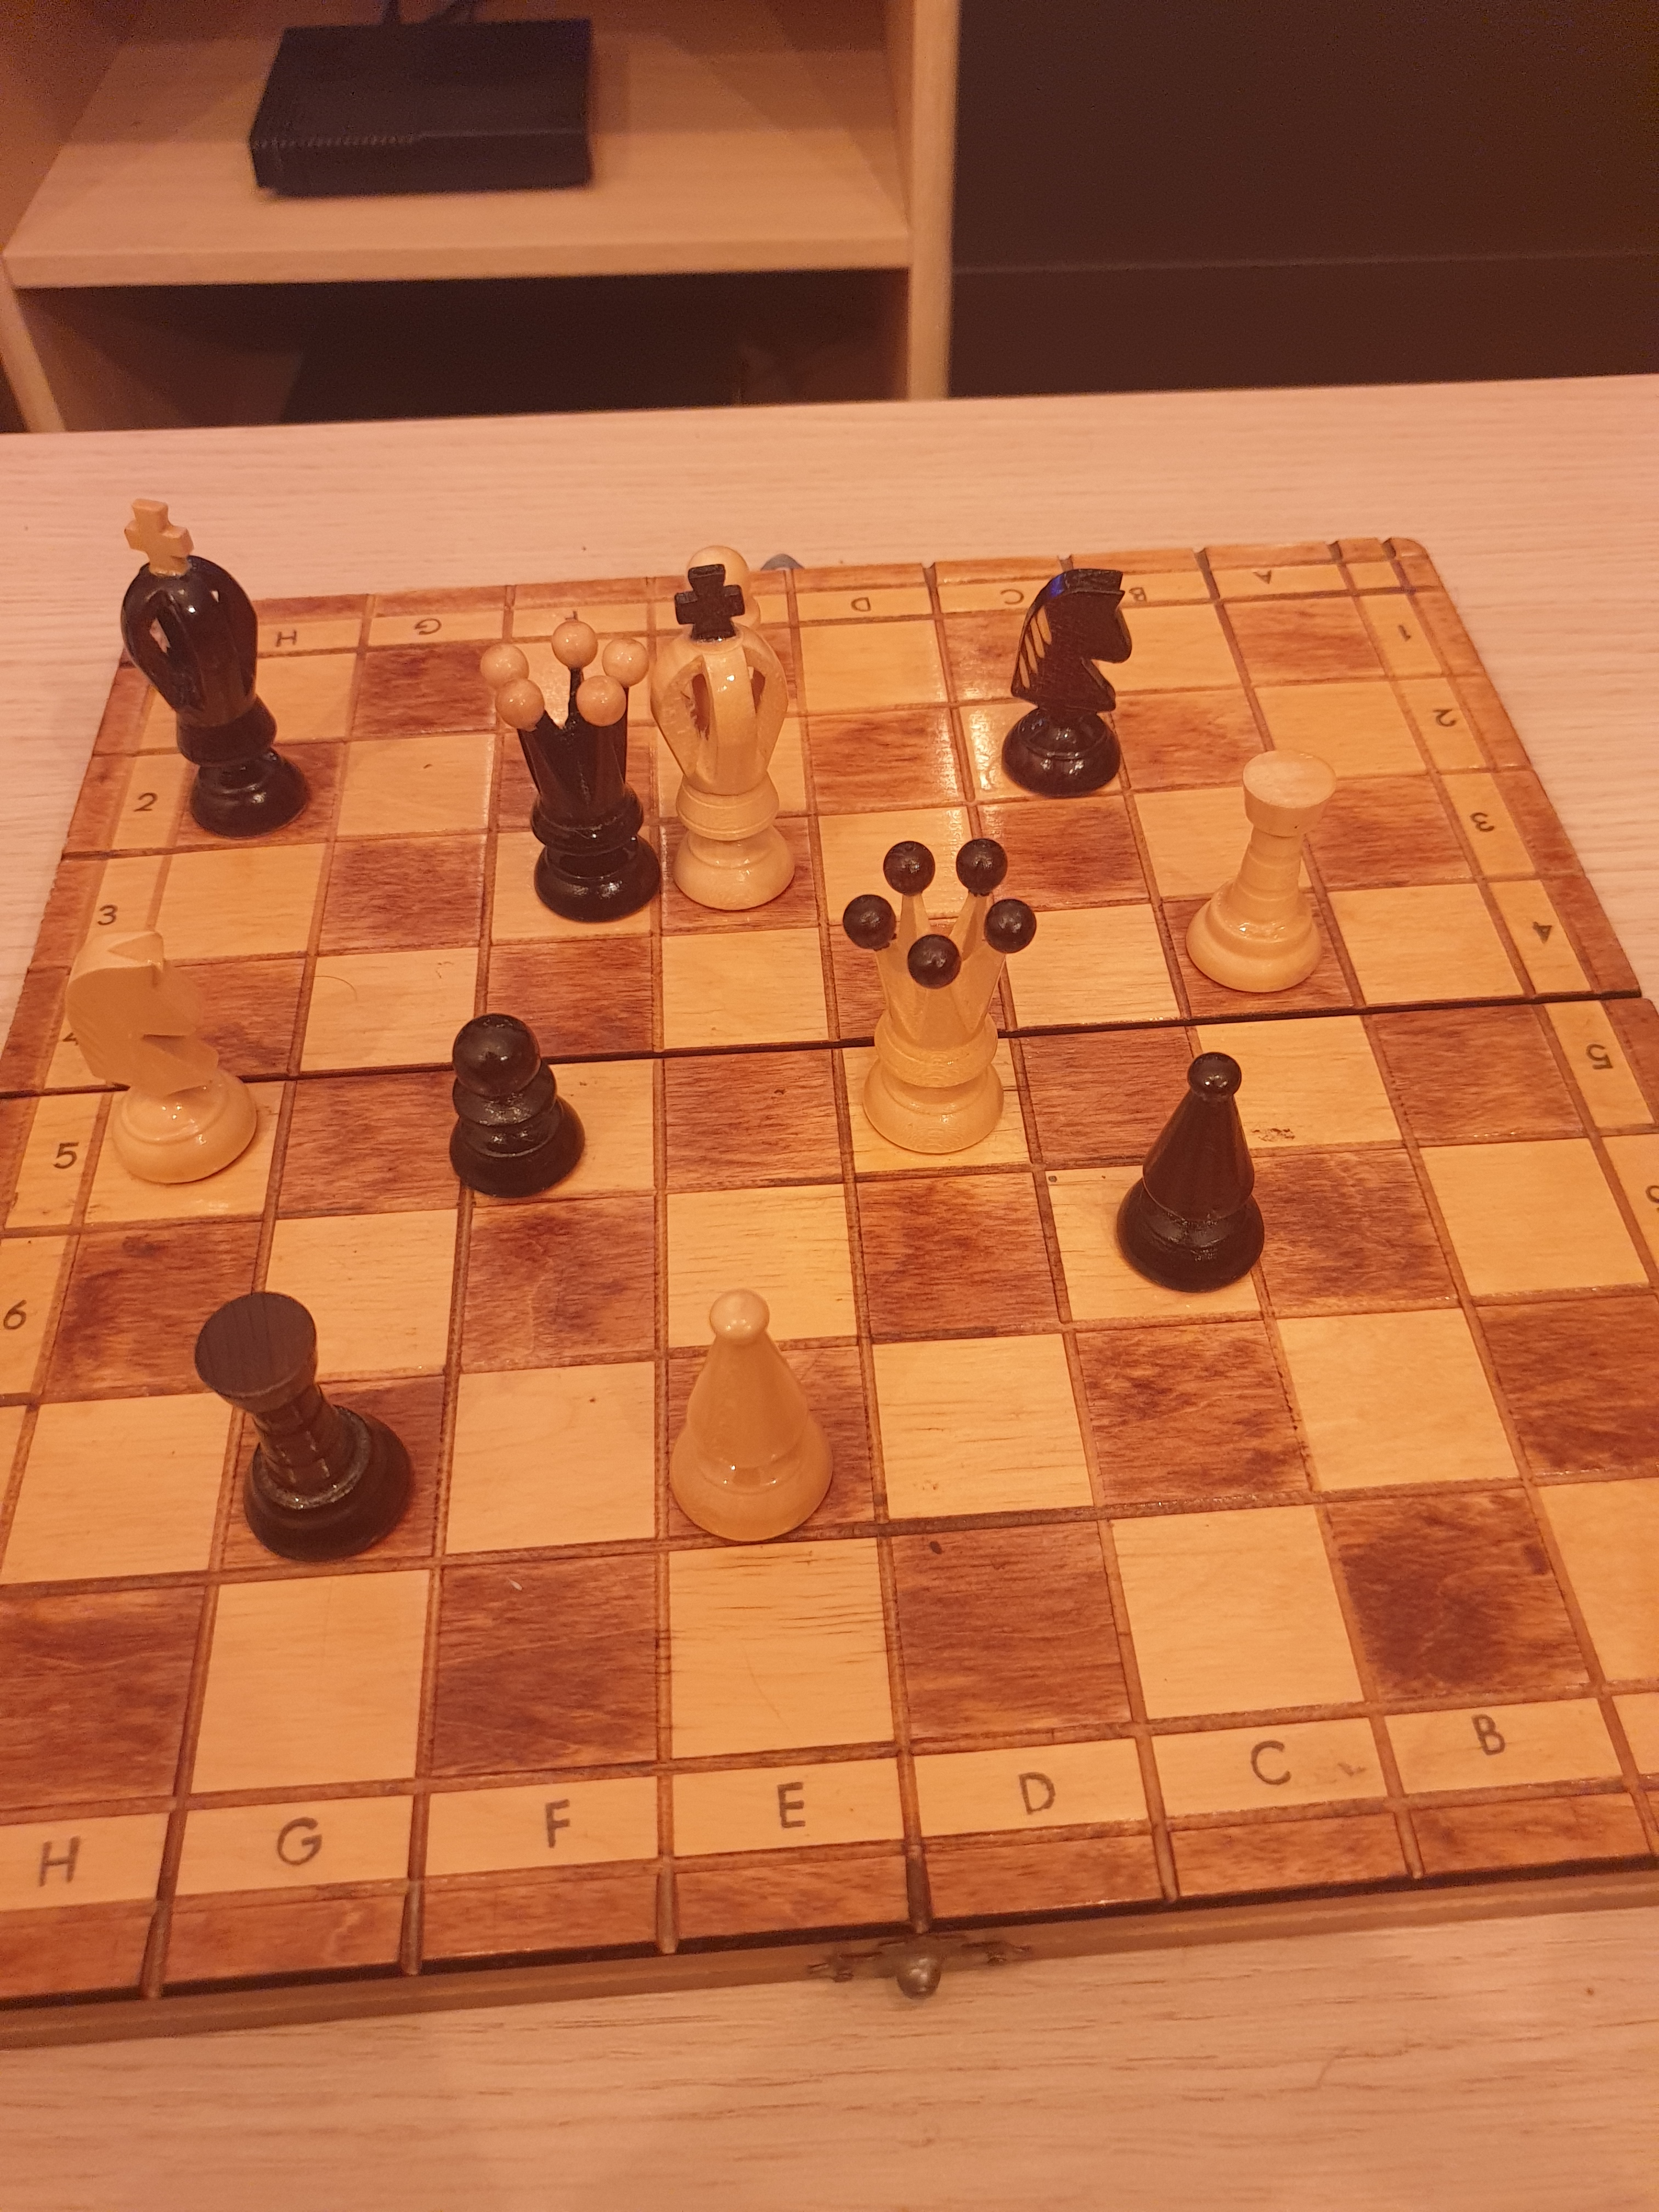bbishop: (1100, 1042, 1297, 1303)
bking: (108, 489, 322, 843)
bknight: (997, 557, 1140, 805)
bpawn: (427, 989, 596, 1217)
bqueen: (476, 604, 673, 941)
brook: (188, 1280, 430, 1573)
wbishop: (647, 1275, 849, 1561)
wking: (647, 561, 812, 932)
wknight: (61, 920, 274, 1191)
wpawn: (669, 535, 786, 716)
wqueen: (831, 831, 1054, 1183)
wrook: (1168, 740, 1358, 1007)
